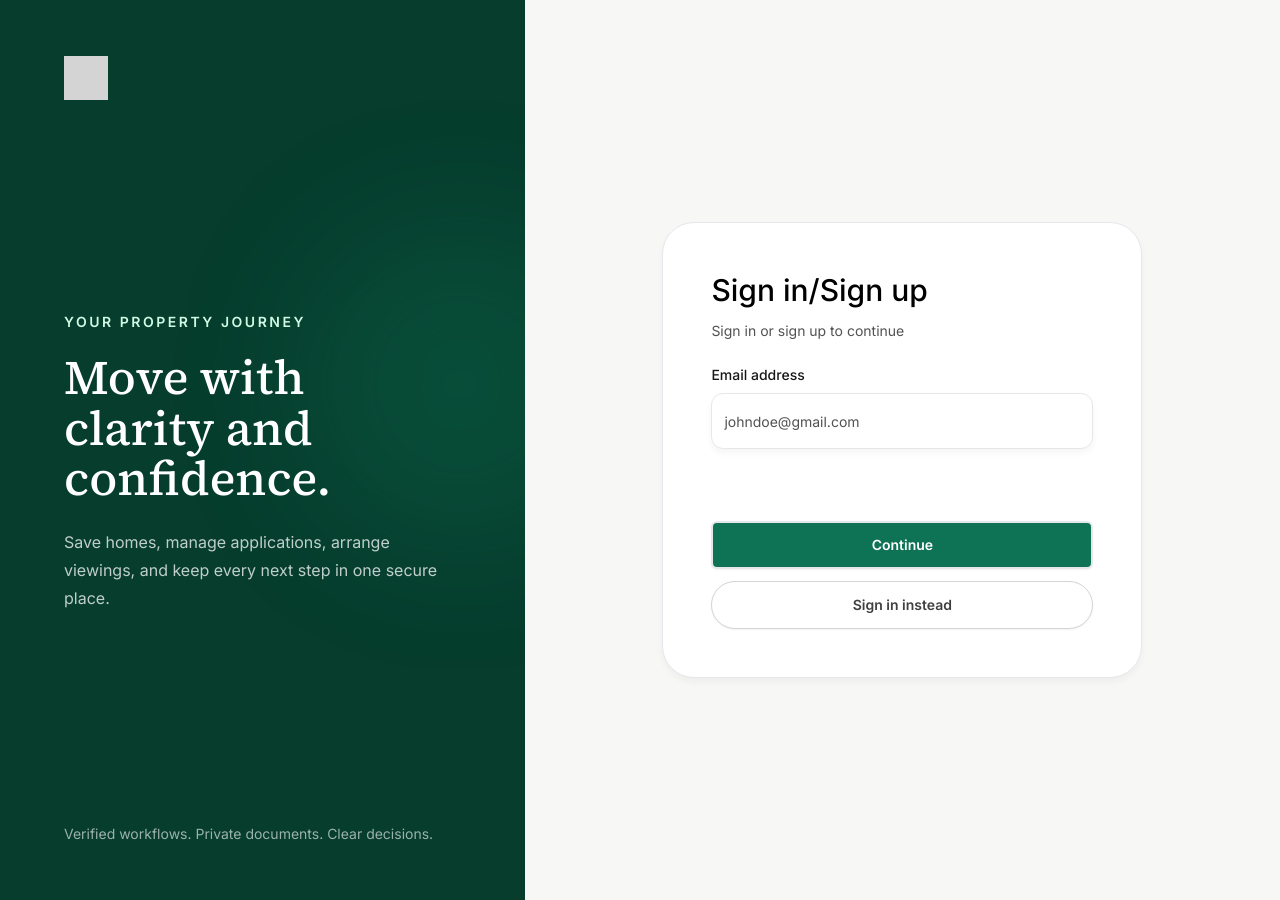
Test case: SignUpPage › validates the identifier before showing account details
Click the button "Continue".
click(902, 545)  # box [711, 521, 1093, 569]
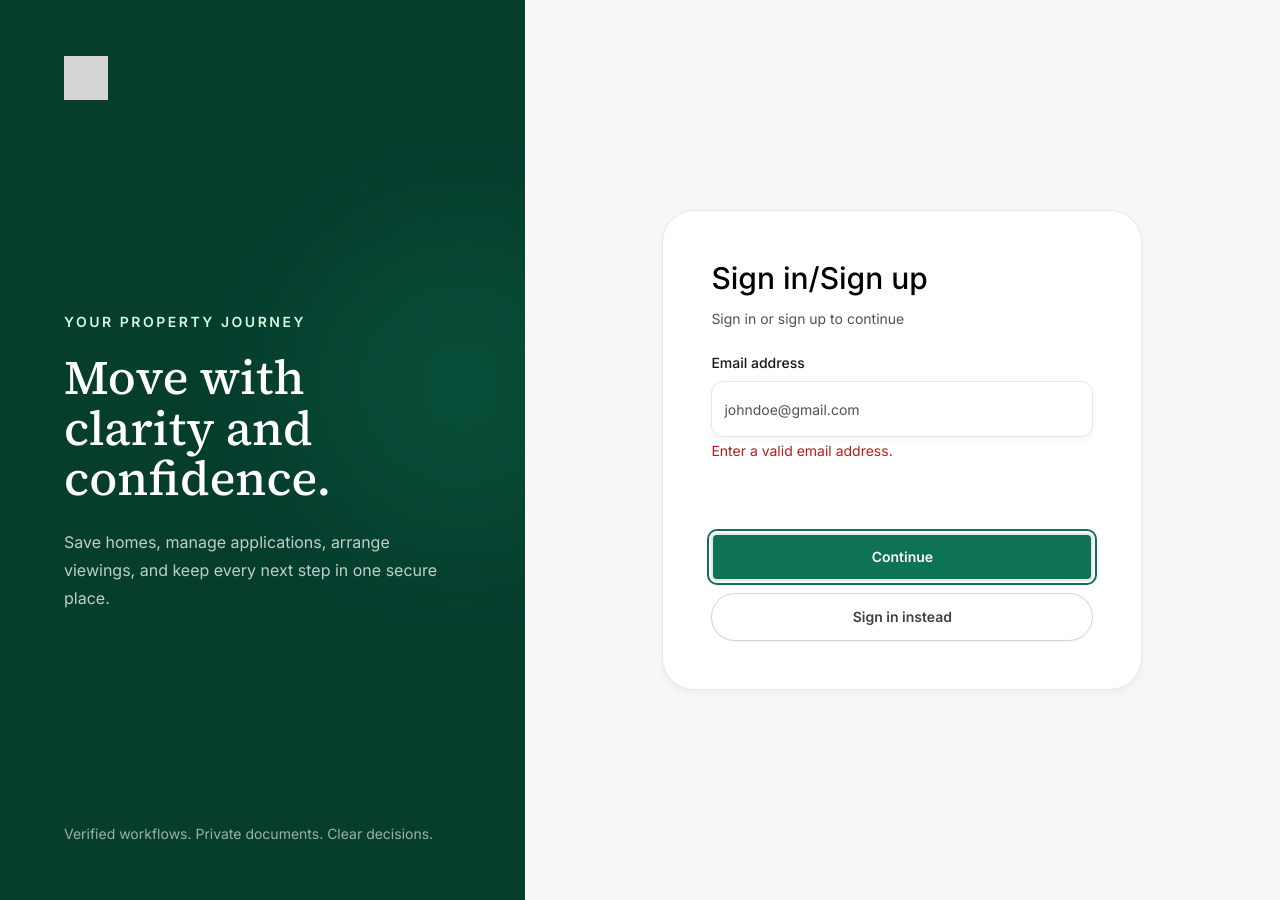
Now the text "Enter a valid email address." is shown, box [711, 442, 893, 459]
